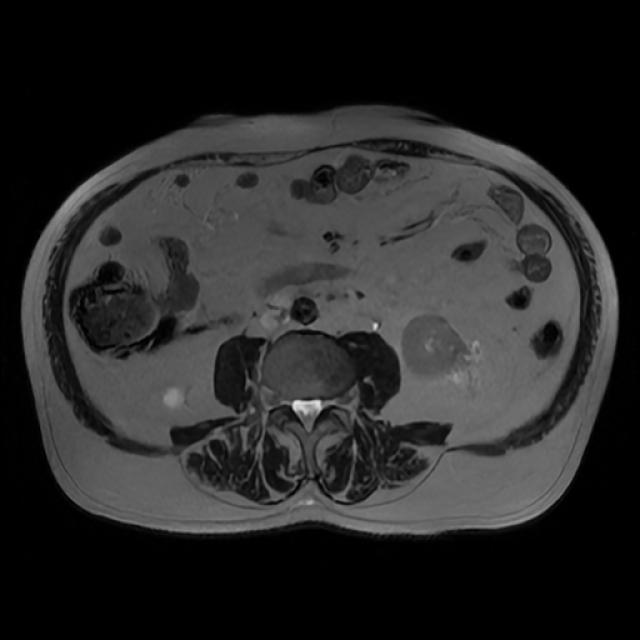sag: (162, 384, 188, 409)
sol: (399, 309, 472, 381)
